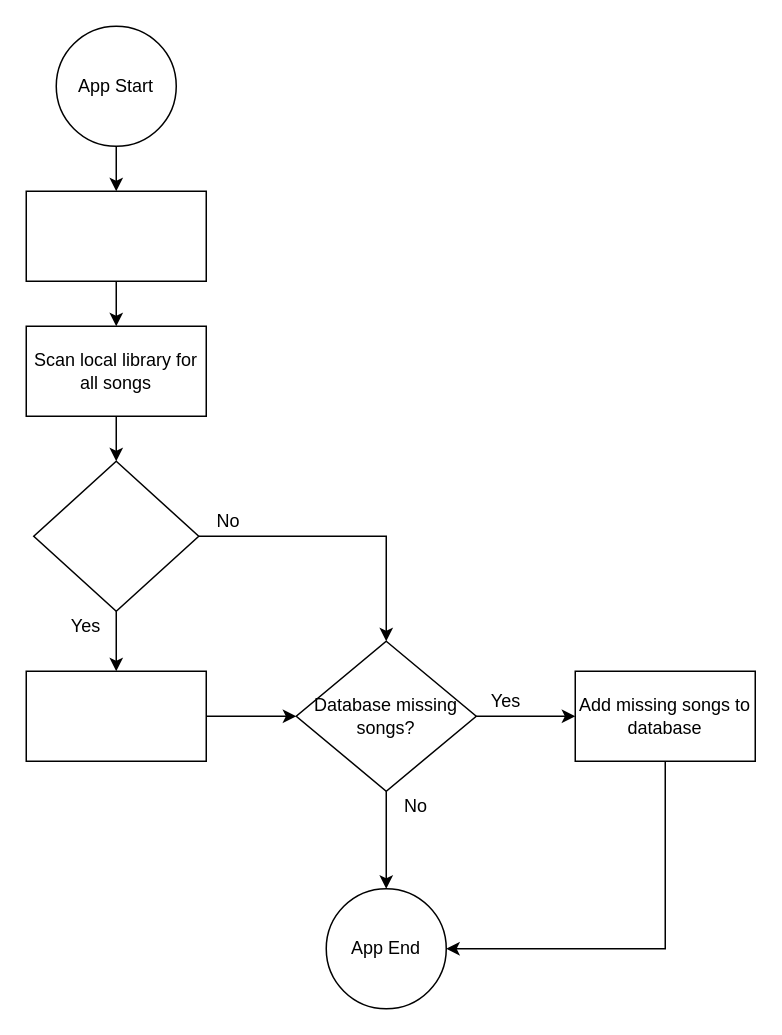
Some shapes in this 782 by 1035 pixel diagram are drawn without their labels. The box of each missing label's shape, as (x1, y1, x2, y2) in pixels:
Download missing songs: (25, 670, 206, 761)
Local Library missing songs?: (32, 460, 199, 611)
Poll database for all songs: (25, 190, 206, 281)
